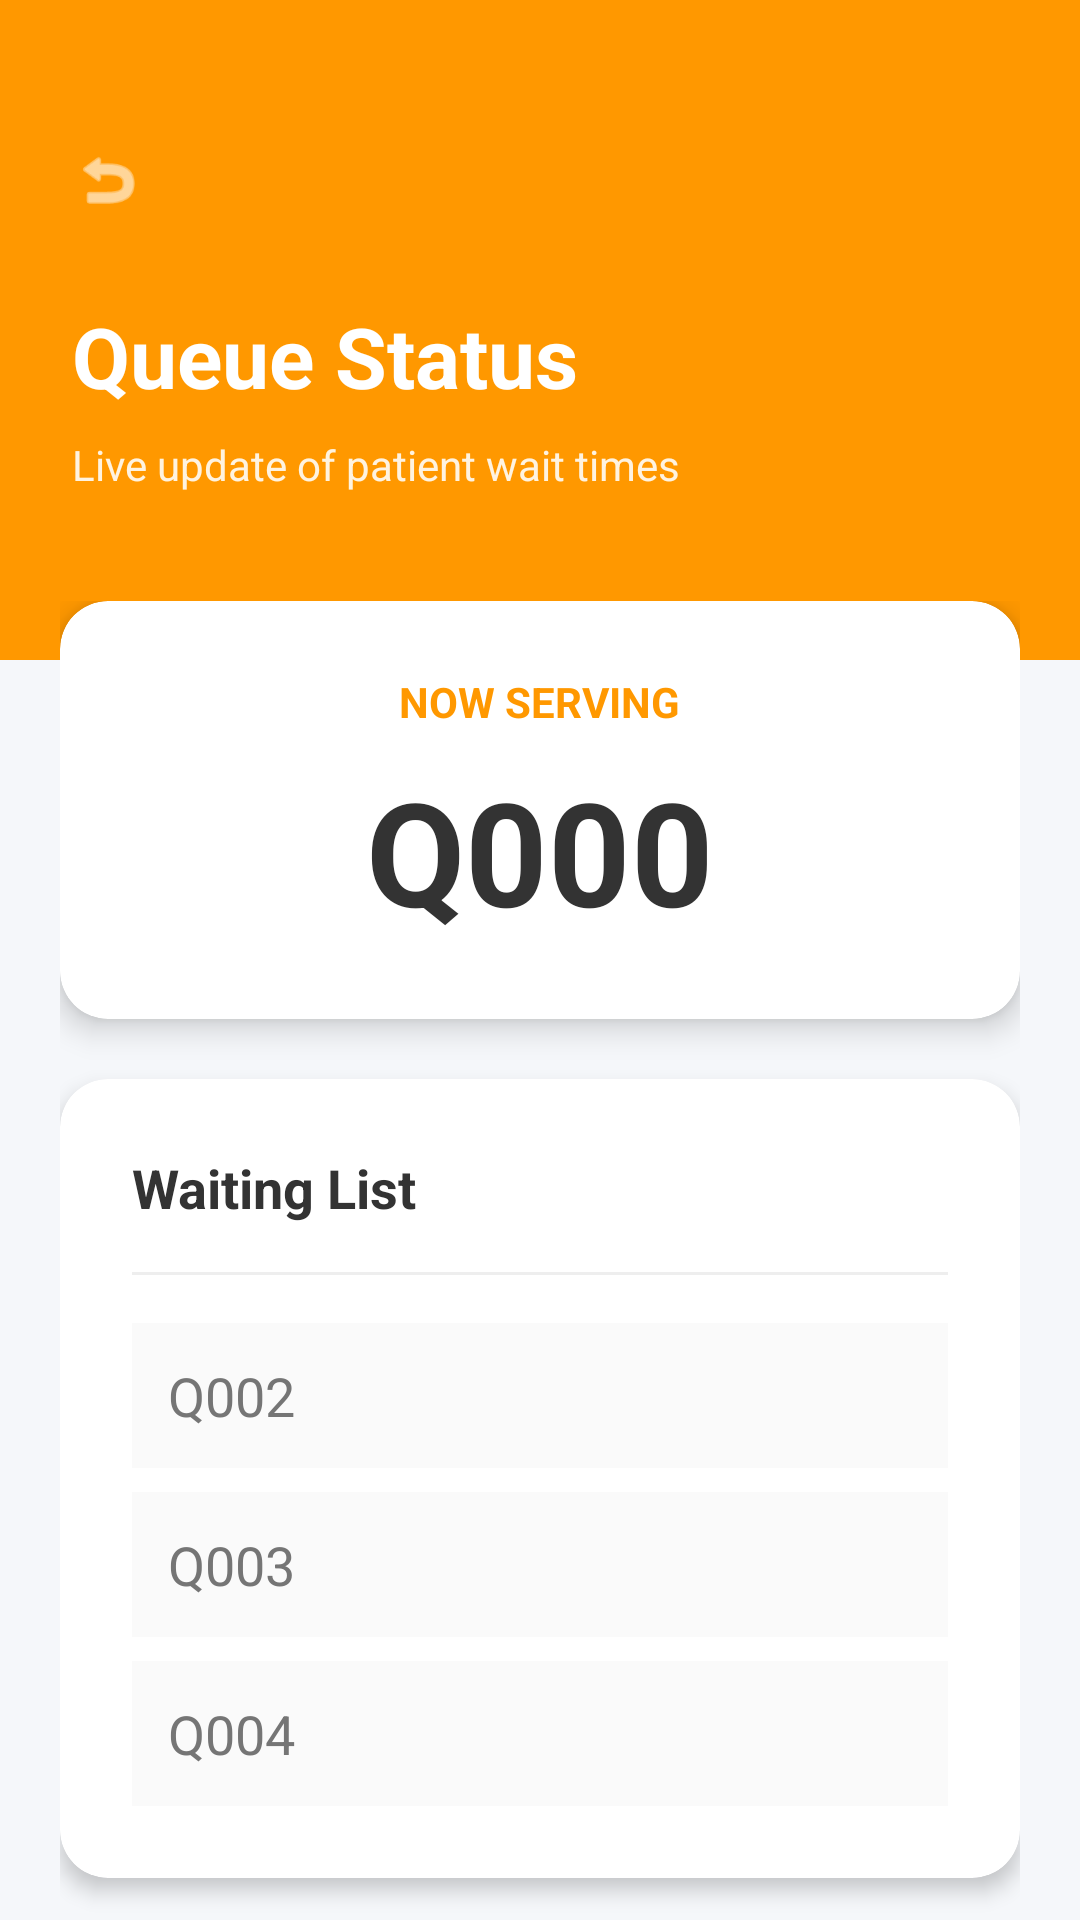

Locate icon controls on the screen. Image size 1080px×1920px, boxes as bbox=(x1, y1, x2, y2).
revert: bbox=(83, 157, 135, 204)
